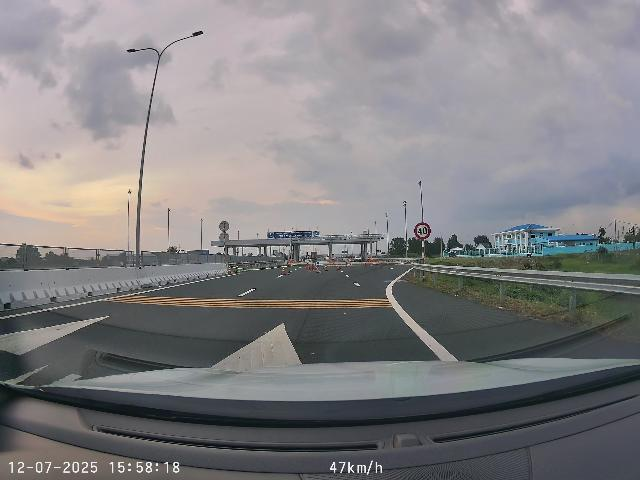127-toc-do-toi-da-40: (414, 222, 431, 240)
